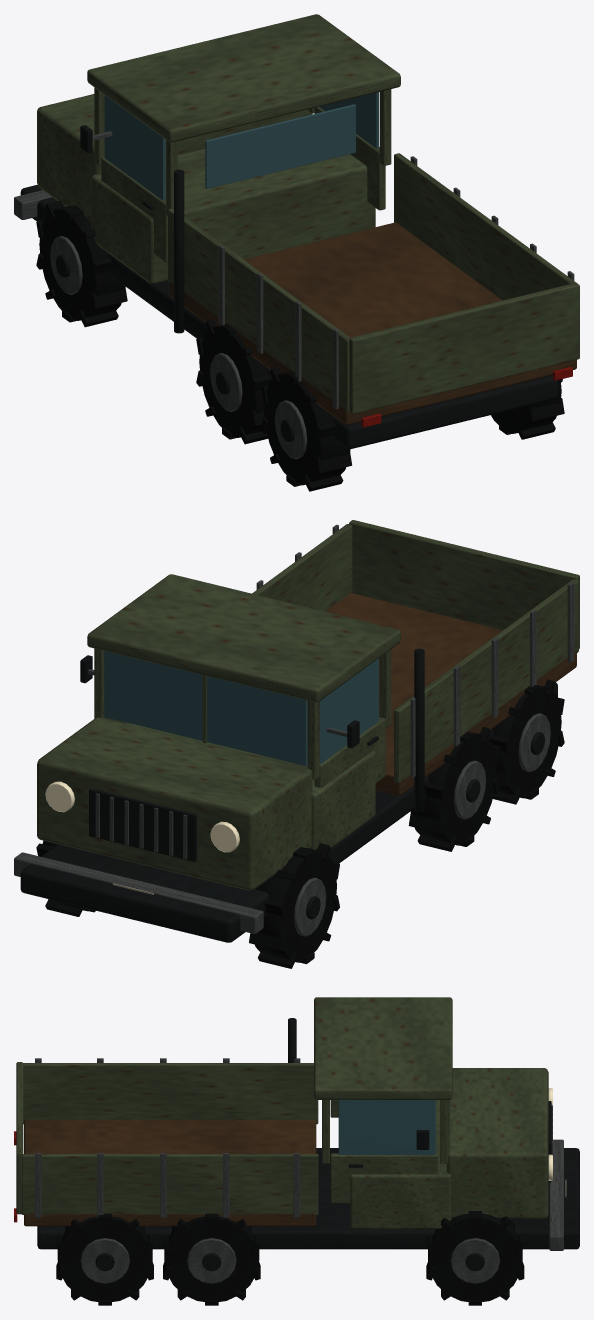
Rendered from truck.glb.
3 renders of one model, top to bottom at view 1: azimuth 30°, elevation 25°; view 2: azimuth 150°, elevation 25°; view 3: azimuth 270°, elevation 25°, orthographic. The views are drawn at different scales.
Parts seen in each view (by area): view 1: body_olive, body_wood, body_rubber, body_glass, body_darksteel, body_steel; view 2: body_olive, body_darksteel, body_rubber, body_glass, body_steel, body_wood, body_lamp; view 3: body_olive, body_rubber, body_wood, body_darksteel, body_steel, body_glass.
Boxes of the visible parts, <box> form: body_olive: <box>37,14,579,413</box>; body_wood: <box>169,222,576,424</box>; body_rubber: <box>36,200,564,491</box>; body_glass: <box>104,92,378,200</box>; body_darksteel: <box>20,125,557,448</box>; body_steel: <box>14,131,574,459</box>; body_olive: <box>37,520,579,890</box>; body_darksteel: <box>20,648,557,942</box>; body_rubber: <box>36,679,564,968</box>; body_glass: <box>104,651,378,765</box>; body_steel: <box>14,524,574,936</box>; body_wood: <box>326,593,576,795</box>; body_lamp: <box>45,781,239,852</box>; body_olive: <box>16,997,548,1229</box>; body_rubber: <box>56,1211,524,1305</box>; body_wood: <box>24,1120,316,1226</box>; body_darksteel: <box>37,1018,579,1271</box>; body_steel: <box>35,1058,563,1283</box>; body_glass: <box>338,1100,435,1154</box>.
Size of the model in its own units: 2.67 by 2.43 by 5.84.
Materials: 9 (7 with a texture image).
